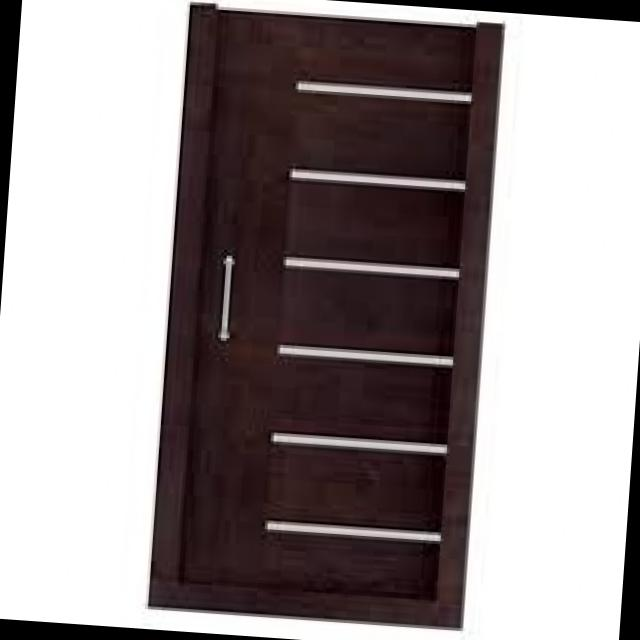Door: (146, 2, 507, 630)
